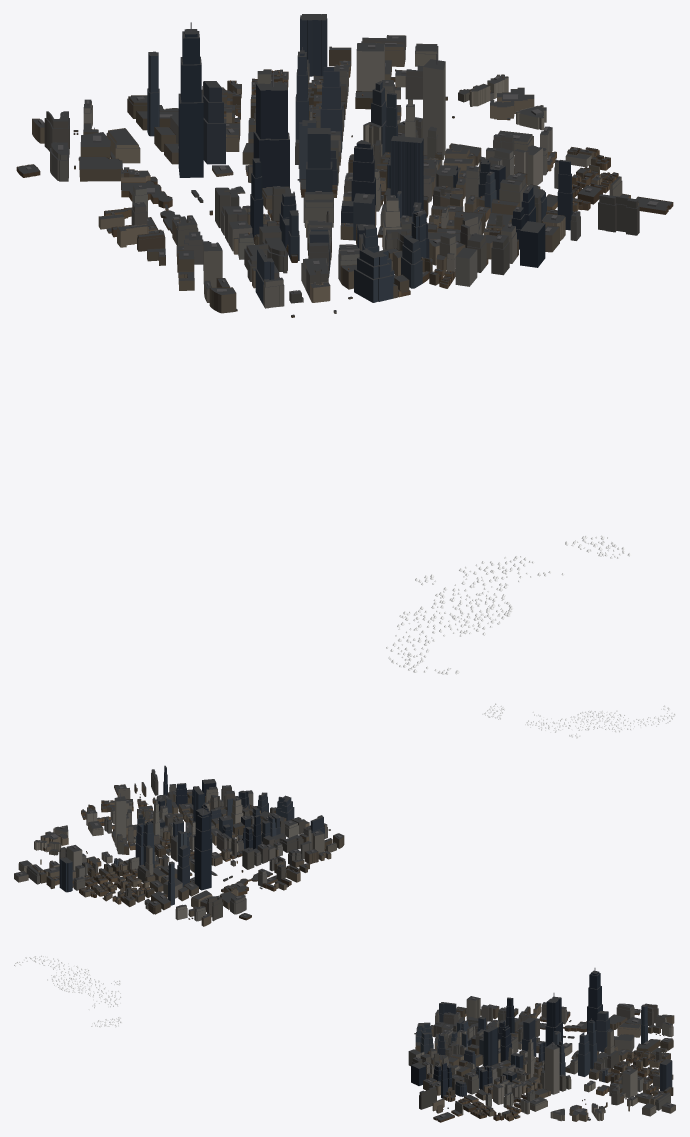
Rendered from manhattan_-03_-06.glb.
The picture shows the model from 3 angles, top to bottom: view 1: azimuth 30°, elevation 25°; view 2: azimuth 150°, elevation 25°; view 3: azimuth 270°, elevation 25°; orthographic projection. The views are drawn at different scales.
Visible parts, largest first — view 1: BLD_towers_-03_-06, BLD_midrise_-03_-06, BLD_lowrise_-03_-06, TREE_-03_-06; view 2: BLD_midrise_-03_-06, BLD_towers_-03_-06, BLD_lowrise_-03_-06, TREE_-03_-06; view 3: BLD_midrise_-03_-06, BLD_towers_-03_-06, BLD_lowrise_-03_-06, TREE_-03_-06.
Boxes of the visible parts, <box> form: BLD_towers_-03_-06: <box>44,14,639,304</box>; BLD_midrise_-03_-06: <box>32,35,638,313</box>; BLD_lowrise_-03_-06: <box>16,60,673,317</box>; TREE_-03_-06: <box>386,535,631,674</box>; BLD_midrise_-03_-06: <box>14,782,344,926</box>; BLD_towers_-03_-06: <box>59,765,324,921</box>; BLD_lowrise_-03_-06: <box>43,784,330,920</box>; TREE_-03_-06: <box>482,703,675,738</box>; BLD_midrise_-03_-06: <box>408,1002,675,1121</box>; BLD_towers_-03_-06: <box>411,968,672,1109</box>; BLD_lowrise_-03_-06: <box>414,1009,667,1122</box>; TREE_-03_-06: <box>14,955,121,1027</box>.
Size of the model in its own units: 2152 by 455 by 3626.
